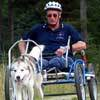dog: (4, 34, 50, 99)
